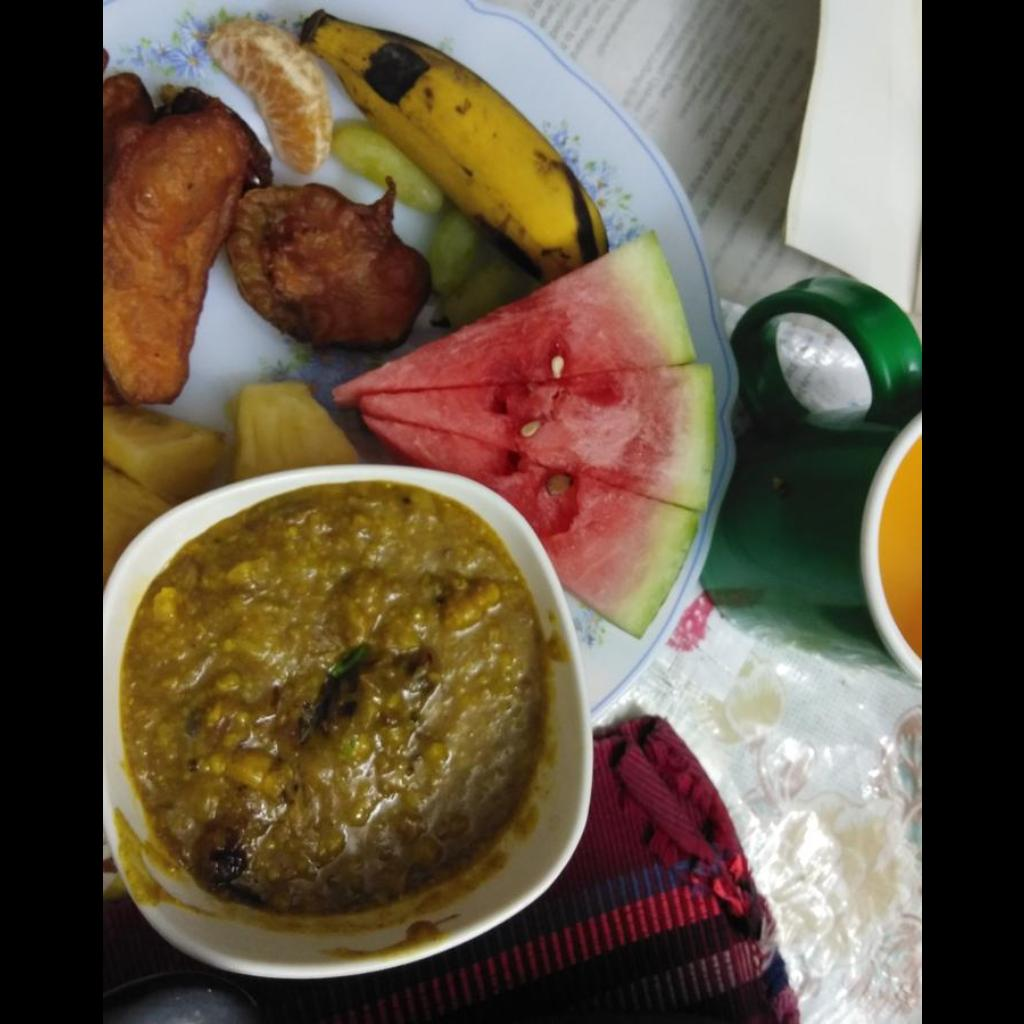banana: (305, 15, 598, 260)
beguni: (102, 73, 268, 401)
chop-alu: (226, 184, 427, 348)
daal: (124, 493, 540, 907)
juice: (878, 437, 920, 659)
orange: (206, 17, 332, 174)
pineapple: (102, 381, 356, 586)
watermelon: (340, 228, 729, 634)
